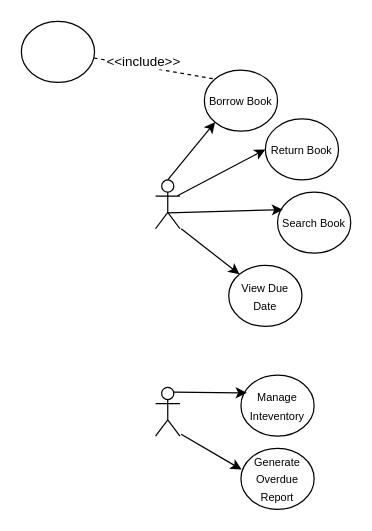
Some shapes in this 372 by 531 pixel diagram are drawn without their labels. The centre of each missing label's shape, as x and y in pixels:
"Admin" goes at pixel 167 411.
"Check Availability" goes at pixel 57 51.
"User" goes at pixel 167 204.
